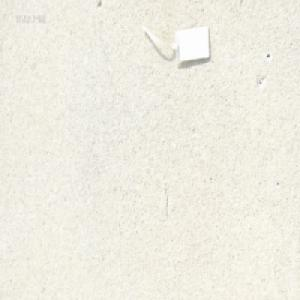LuggageTag: (139, 21, 212, 69)
